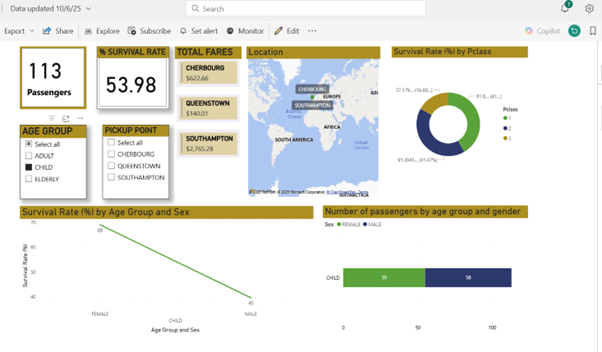

This screenshot's page, from the dashboard's own definition file:
{"tool":"powerbi","page":{"name":"Page 1","canvas":[1280,720],"ordinal":0},"visuals":[{"type":"cardVisual","title":"%  SURVIVAL RATE","fields":{"Data":["train.Survival Rate (%)"]},"box":[203.4,0,180.6,156.4],"z":0},{"type":"lineChart","fields":{"Category":["train.Age Group","train.Sex"],"Y":["train.Survival Rate (%)"]},"box":[11.4,398.2,732.4,322.8],"z":1000},{"type":"slicer","title":"AGE GROUP","fields":{"Values":["train.Age Group"]},"box":[11.4,196.3,166.4,184.9],"z":2000},{"type":"slicer","title":"PICKUP POINT","fields":{"Values":["train.Pickup Location"]},"box":[217.6,196.3,166.4,184.9],"z":3000},{"type":"barChart","title":"Number of passengers by age group and gender","fields":{"Category":["train.Age Group"],"Y":["CountNonNull(train.PassengerId)"],"Series":["train.Sex"]},"box":[768,396.8,512,322.8],"z":4000},{"type":"cardVisual","title":"# OF PASSENGERS","fields":{"Data":["train.Passengers"]},"box":[11.4,0,166.4,156.4],"z":5000},{"type":"multiRowCard","title":"TOTAL FARES","fields":{"Values":["train.Pickup Location","Sum(train.Fare)"]},"box":[398.2,0,166.4,381.2],"z":6000},{"type":"donutChart","fields":{"Category":["train.Pclass"],"Y":["train.Survival Rate (%)"]},"box":[939.7,0,339.9,366.6],"z":7000},{"type":"map","title":"Location","fields":{"Category":["train.Pickup Location"]},"box":[576.7,0,334.6,380.9],"z":8000}]}

Visuals, with their boxes on the page's 1280x720 design canvas (x1, y1, x2, y2). These are canvas units, not pixel positions in the 602x352 screenshot, which may show the page scaled, cropped or inside an application window:
"%  SURVIVAL RATE" cardVisual: locate(203, 0, 384, 156)
lineChart - train.Age Group x train.Sex: locate(11, 398, 744, 721)
"AGE GROUP" slicer: locate(11, 196, 178, 381)
"PICKUP POINT" slicer: locate(218, 196, 384, 381)
"Number of passengers by age group and gender" barChart: locate(768, 397, 1280, 720)
"# OF PASSENGERS" cardVisual: locate(11, 0, 178, 156)
"TOTAL FARES" multiRowCard: locate(398, 0, 565, 381)
donutChart - train.Pclass x train.Survival Rate (%): locate(940, 0, 1280, 367)
"Location" map: locate(577, 0, 911, 381)
